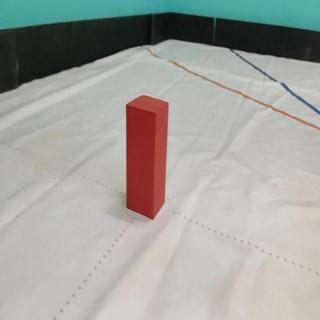redbox: (124, 93, 169, 220)
